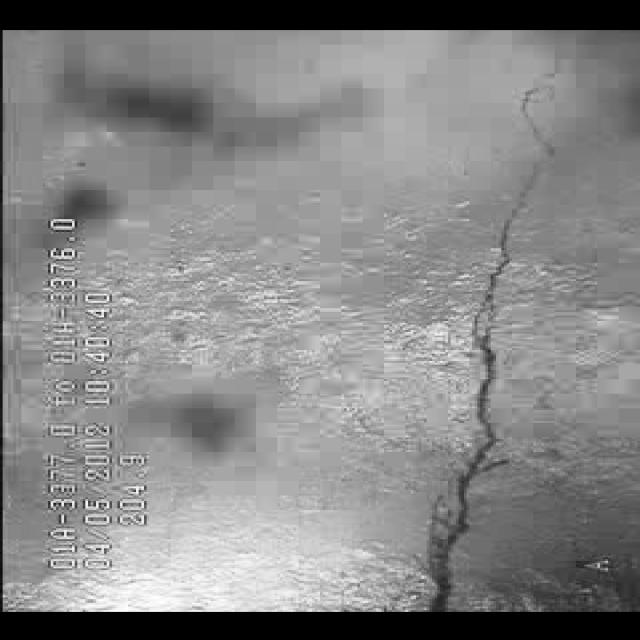Crack: (414, 182, 540, 604)
